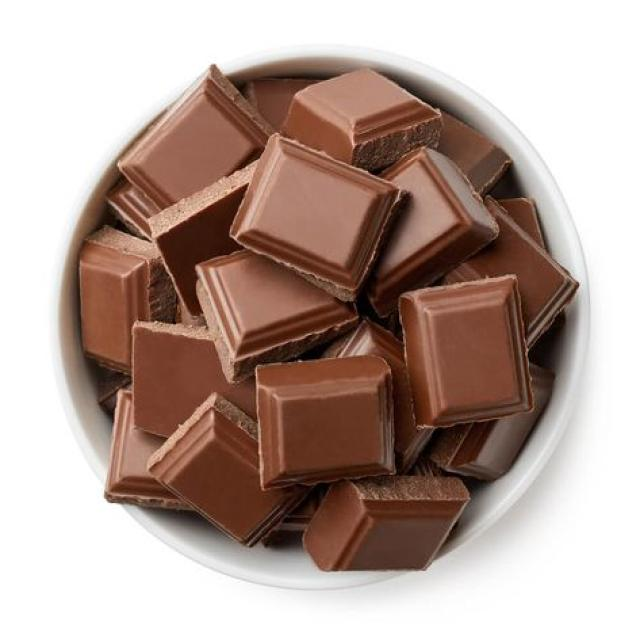Chocolate: (66, 62, 585, 574)
